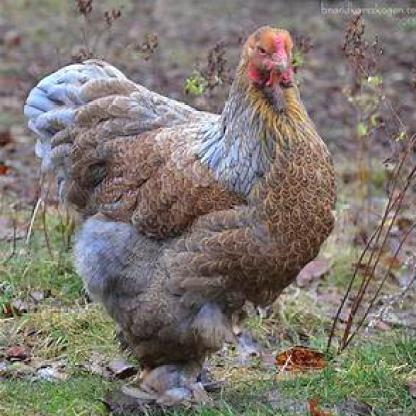chicken: (23, 25, 335, 402)
